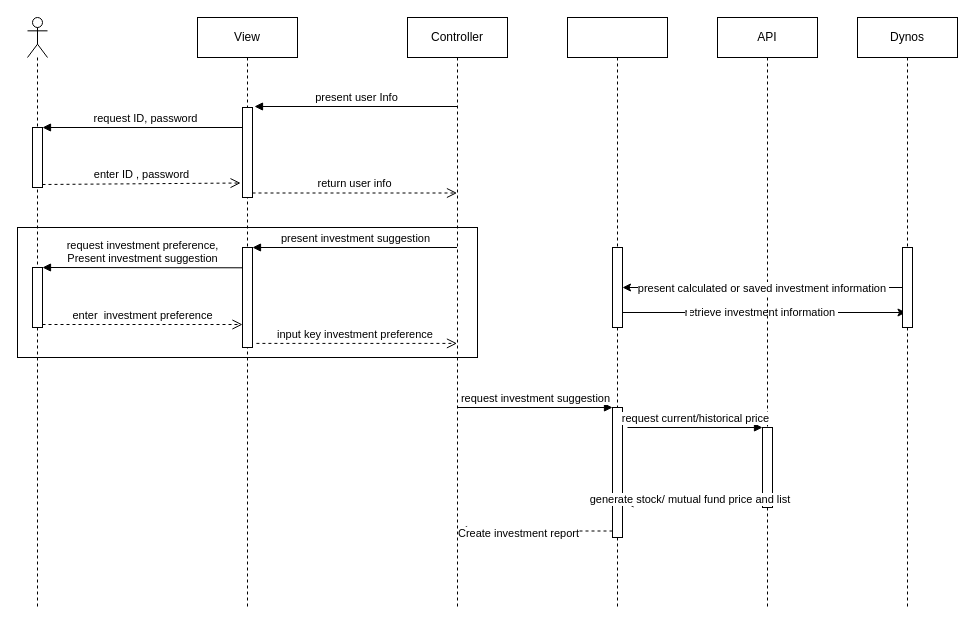
Image size: 975x625. Some labels were removed from this diagram. Here are the shapes that lost their labels. From the top down, the box of each, then its label:
(26, 16, 48, 608): User
(566, 16, 668, 608): Model
